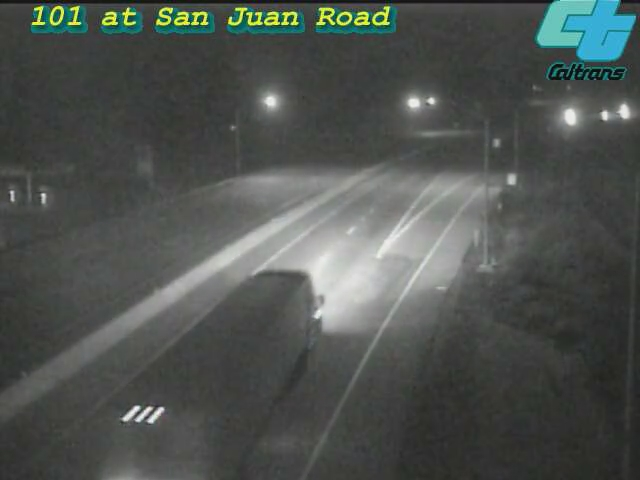vehicle: (165, 313, 275, 423), (581, 90, 631, 140), (543, 91, 593, 141), (598, 86, 640, 136)
